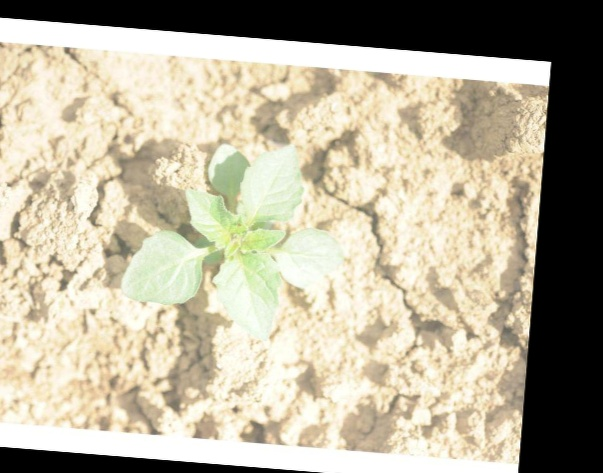nightshade: (124, 135, 344, 338)
